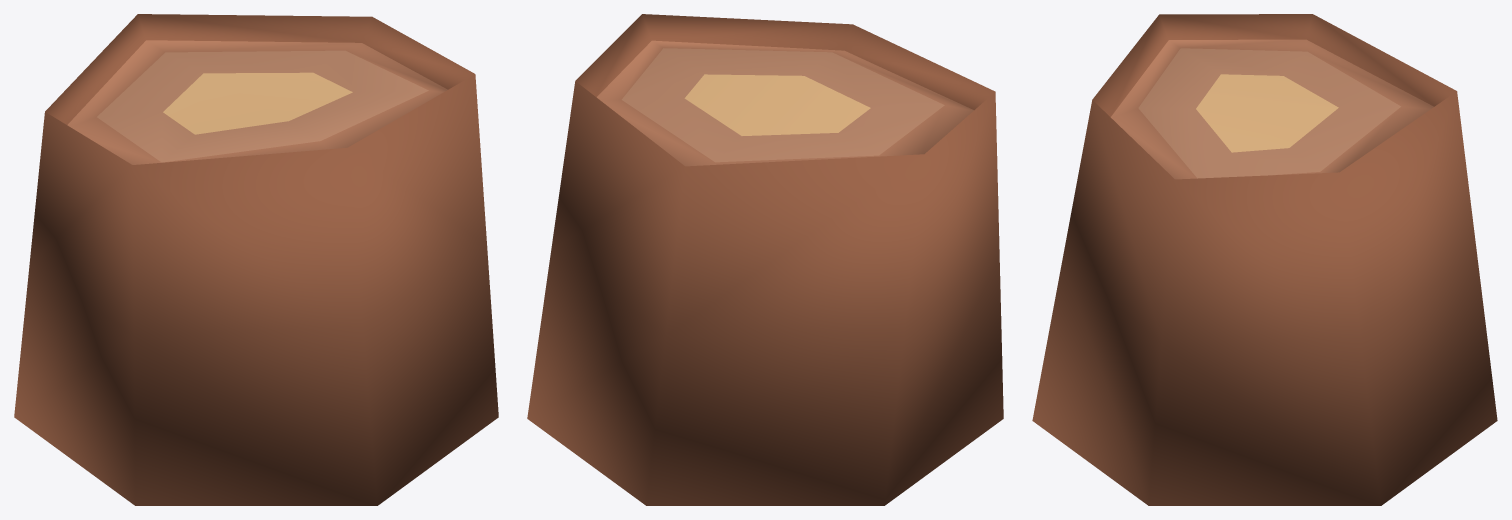
The model's file is Stump_01_LOD2.gltf.
The picture shows the model from 3 angles, left to right: view 1: azimuth 30°, elevation 25°; view 2: azimuth 150°, elevation 25°; view 3: azimuth 270°, elevation 25°; orthographic projection. The views are drawn at different scales.
Parts seen in each view (by area): view 1: Stump_01_LOD2_Cylinder.091; view 2: Stump_01_LOD2_Cylinder.091; view 3: Stump_01_LOD2_Cylinder.091.
Boxes of the visible parts, x1,y1,x2,y2 form: Stump_01_LOD2_Cylinder.091: (14, 14, 498, 505); Stump_01_LOD2_Cylinder.091: (527, 14, 1003, 505); Stump_01_LOD2_Cylinder.091: (1032, 14, 1497, 505).
Bounding box in the file's own units: 1.39 × 1.21 × 1.58.
Materials: 1 (1 with a texture image).
